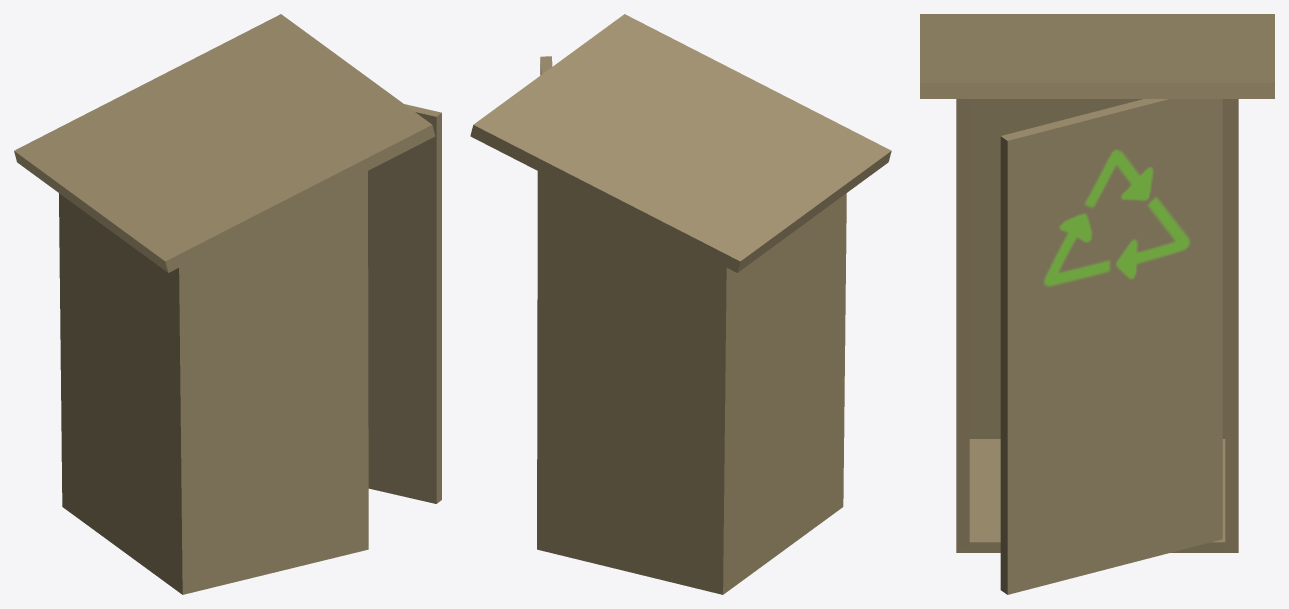
The model's file is kadibuda.fbx.
3 renders of one model, left to right at view 1: azimuth 30°, elevation 25°; view 2: azimuth 150°, elevation 25°; view 3: azimuth 270°, elevation 25°, orthographic. The views are drawn at different scales.
Parts seen in each view (by area): view 1: Cube.001; view 2: Cube.001; view 3: Cube.001.
Part boxes in pixels (box(x1,y1,x2,y2)): Cube.001: box(14, 14, 441, 594); Cube.001: box(470, 14, 891, 594); Cube.001: box(920, 14, 1274, 594).
Bounding box in the file's own units: 234 × 302 × 195.
Materials: 1 (1 with a texture image).
